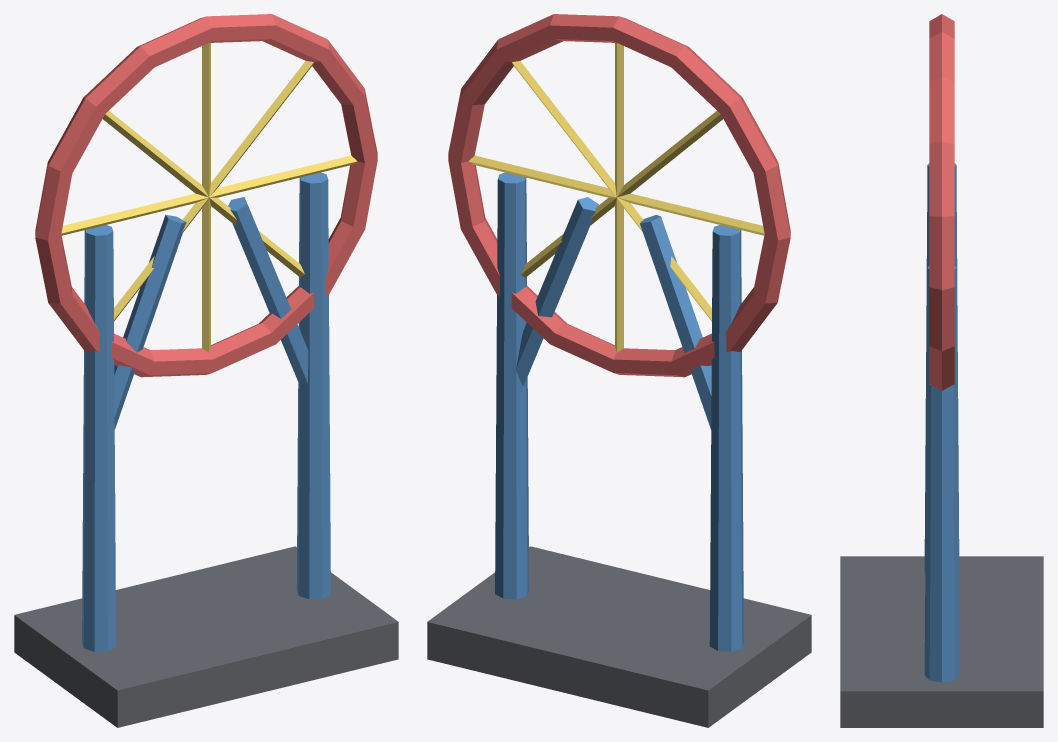
The model's file is travelling-circus-and-big-top-hoop-stand-699c0e70__36252.glb.
3 renders of one model, left to right at view 1: azimuth 30°, elevation 25°; view 2: azimuth 150°, elevation 25°; view 3: azimuth 270°, elevation 25°, orthographic.
Parts seen in each view (by area): view 1: hoop-stand-charcoal, hoop-stand-azure, hoop/stripe, hoop/gold; view 2: hoop-stand-charcoal, hoop-stand-azure, hoop/stripe, hoop/gold; view 3: hoop-stand-charcoal, hoop-stand-azure, hoop/stripe.
Boxes of the visible parts, x1=… form: hoop-stand-charcoal: x1=14, y1=546, x2=398, y2=727; hoop-stand-azure: x1=82, y1=172, x2=330, y2=651; hoop/stripe: x1=35, y1=14, x2=377, y2=377; hoop/gold: x1=61, y1=42, x2=357, y2=352; hoop-stand-charcoal: x1=427, y1=546, x2=811, y2=727; hoop-stand-azure: x1=495, y1=172, x2=743, y2=651; hoop/stripe: x1=448, y1=14, x2=790, y2=377; hoop/gold: x1=468, y1=42, x2=764, y2=352; hoop-stand-charcoal: x1=840, y1=556, x2=1043, y2=727; hoop-stand-azure: x1=924, y1=163, x2=959, y2=682; hoop/stripe: x1=929, y1=14, x2=954, y2=390.
Size of the model in its own units: 1.34 by 2.39 by 0.6999.
